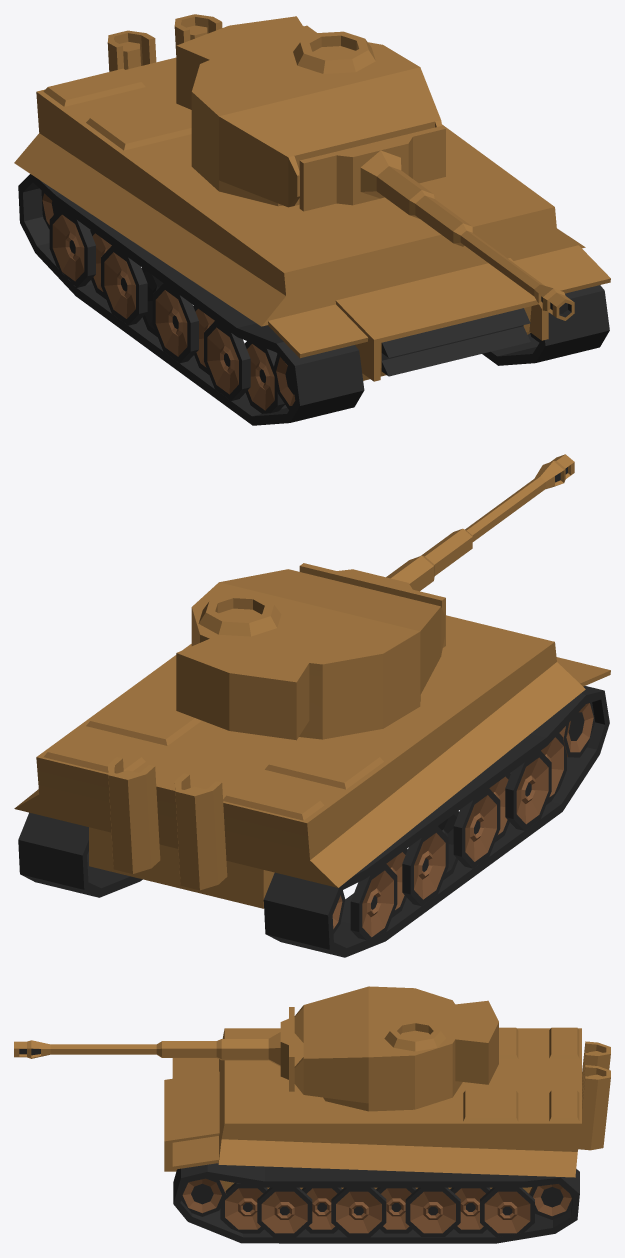
The model's file is ww2_tiger.fbx.
The picture shows the model from 3 angles, top to bottom: view 1: azimuth 30°, elevation 25°; view 2: azimuth 150°, elevation 25°; view 3: azimuth 270°, elevation 25°; orthographic projection. The views are drawn at different scales.
Visible parts, largest first — view 1: tiger_body, tiger_head, tiger_belt, tiger_cannon, tiger_wheel3, tiger_wheel5, tiger_wheel7, tiger_wheel9, tiger_wheel2, tiger_wheel1, tiger_wheel6; view 2: tiger_body, tiger_head, tiger_belt, tiger_cannon, tiger_wheel5, tiger_wheel3, tiger_wheel7, tiger_wheel9, tiger_wheel1, tiger_wheel2; view 3: tiger_body, tiger_head, tiger_belt, tiger_cannon, tiger_wheel5, tiger_wheel3, tiger_wheel7, tiger_wheel9, tiger_wheel2, tiger_wheel1, tiger_wheel4, tiger_wheel8 (+2 smaller).
Part boxes in pixels (left/top/right/bottom): tiger_body: left=14, top=14, right=610, bottom=381; tiger_head: left=176, top=16, right=442, bottom=207; tiger_belt: left=18, top=174, right=609, bottom=425; tiger_cannon: left=299, top=126, right=574, bottom=320; tiger_wheel3: left=204, top=321, right=250, bottom=400; tiger_wheel5: left=152, top=283, right=198, bottom=363; tiger_wheel7: left=101, top=245, right=147, bottom=325; tiger_wheel9: left=49, top=208, right=95, bottom=287; tiger_wheel2: left=244, top=333, right=540, bottom=413; tiger_wheel1: left=273, top=354, right=295, bottom=409; tiger_wheel6: left=141, top=267, right=163, bottom=336; tiger_body: left=14, top=615, right=610, bottom=908; tiger_head: left=176, top=569, right=444, bottom=740; tiger_belt: left=18, top=686, right=609, bottom=957; tiger_cannon: left=299, top=454, right=574, bottom=647; tiger_wheel5: left=453, top=788, right=500, bottom=868; tiger_wheel3: left=505, top=751, right=551, bottom=830; tiger_wheel7: left=402, top=826, right=448, bottom=906; tiger_wheel9: left=350, top=864, right=397, bottom=939; tiger_wheel1: left=559, top=702, right=595, bottom=757; tiger_wheel2: left=541, top=733, right=566, bottom=804; tiger_body: left=164, top=1027, right=610, bottom=1193; tiger_head: left=294, top=986, right=498, bottom=1111; tiger_belt: left=173, top=1163, right=579, bottom=1243; tiger_cannon: left=14, top=1007, right=294, bottom=1091; tiger_wheel5: left=331, top=1187, right=386, bottom=1237; tiger_wheel3: left=257, top=1187, right=312, bottom=1237; tiger_wheel7: left=405, top=1187, right=460, bottom=1236; tiger_wheel9: left=480, top=1187, right=534, bottom=1236; tiger_wheel2: left=220, top=1183, right=267, bottom=1233; tiger_wheel1: left=181, top=1178, right=226, bottom=1216; tiger_wheel4: left=301, top=1187, right=342, bottom=1233; tiger_wheel8: left=450, top=1187, right=490, bottom=1233.
Size of the model in its own units: 90.51 by 64.56 by 200.
